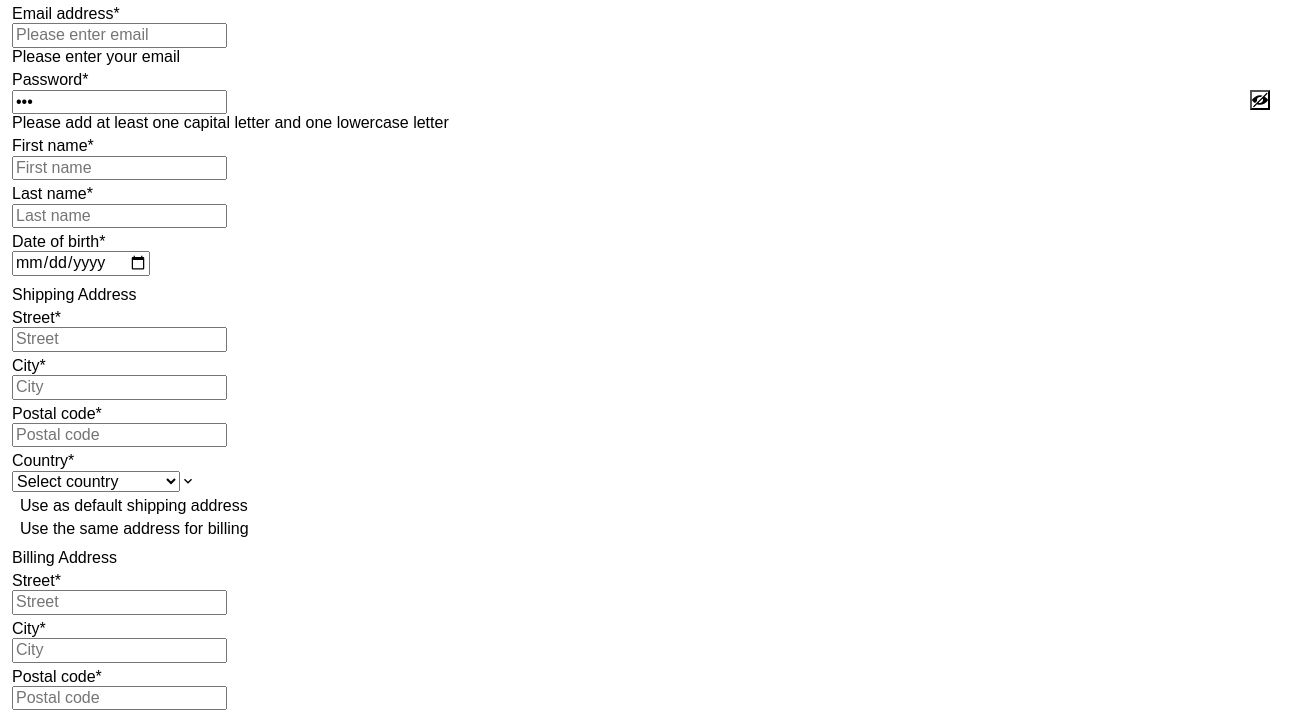
Test case: SignUpForm › should say if password doesn't contain at least one digit
Type "Aa" into the password field with placeholder "Create a password" at (120, 102), box [12,90,227,114]
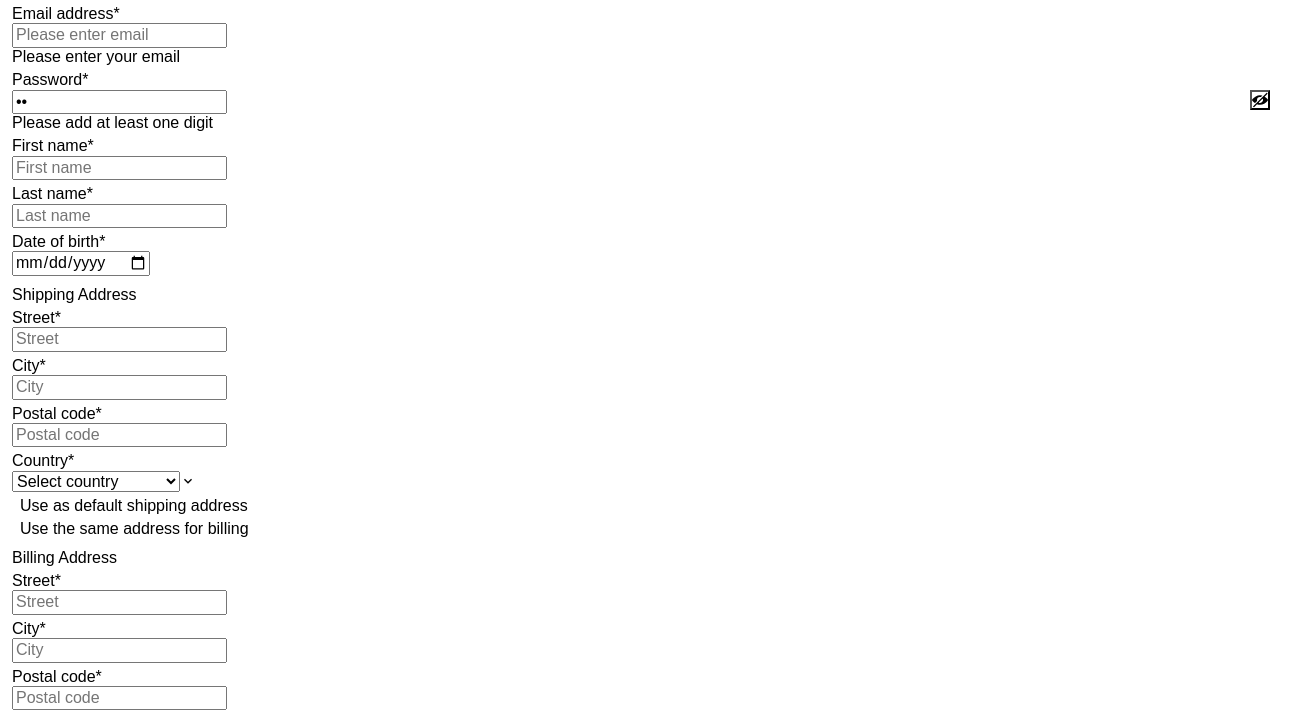
Expected: the text "Please add at least one digit" is shown, [12,114,213,131]
